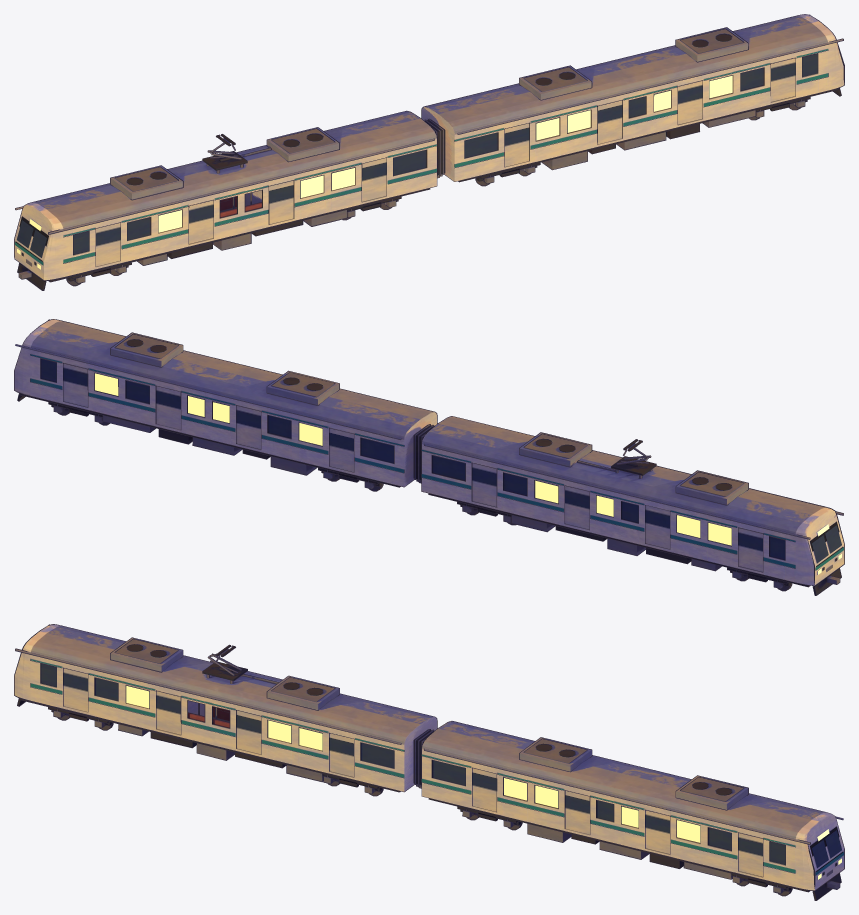
The model's file is train.glb.
The picture shows the model from 3 angles, top to bottom: view 1: azimuth 30°, elevation 25°; view 2: azimuth 150°, elevation 25°; view 3: azimuth 330°, elevation 25°; orthographic projection.
Parts seen in each view (by area): view 1: piece_train; view 2: piece_train; view 3: piece_train.
Boxes of the visible parts, x1=… form: piece_train: x1=14, y1=14, x2=844, y2=290; piece_train: x1=14, y1=319, x2=844, y2=595; piece_train: x1=14, y1=624, x2=844, y2=900.
Bounding box in the file's own units: 41.83 × 5.05 × 3.03.
3 materials, 1 textured.
